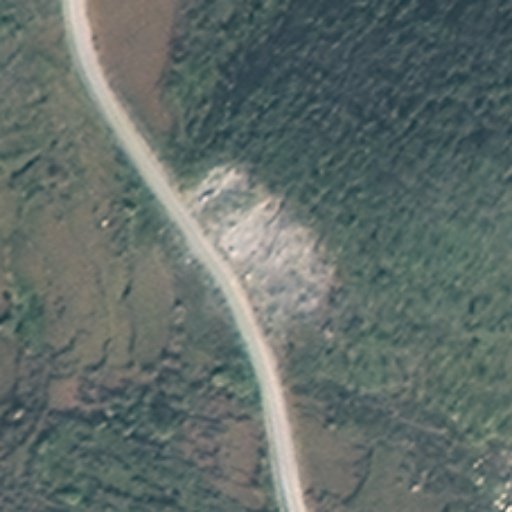landslide: (196, 161, 339, 308)
